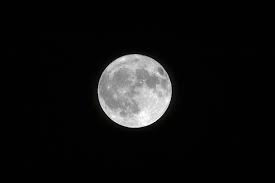moon: (85, 52, 186, 131)
